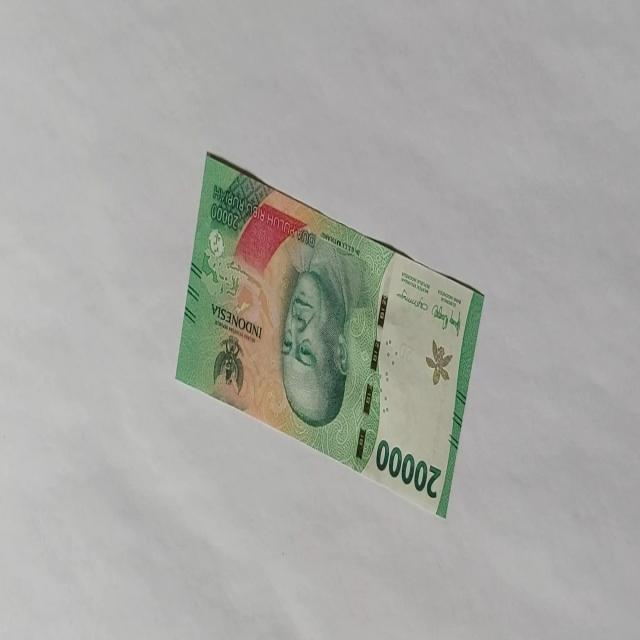dua puluh ribu rupiah: (174, 149, 486, 519)
